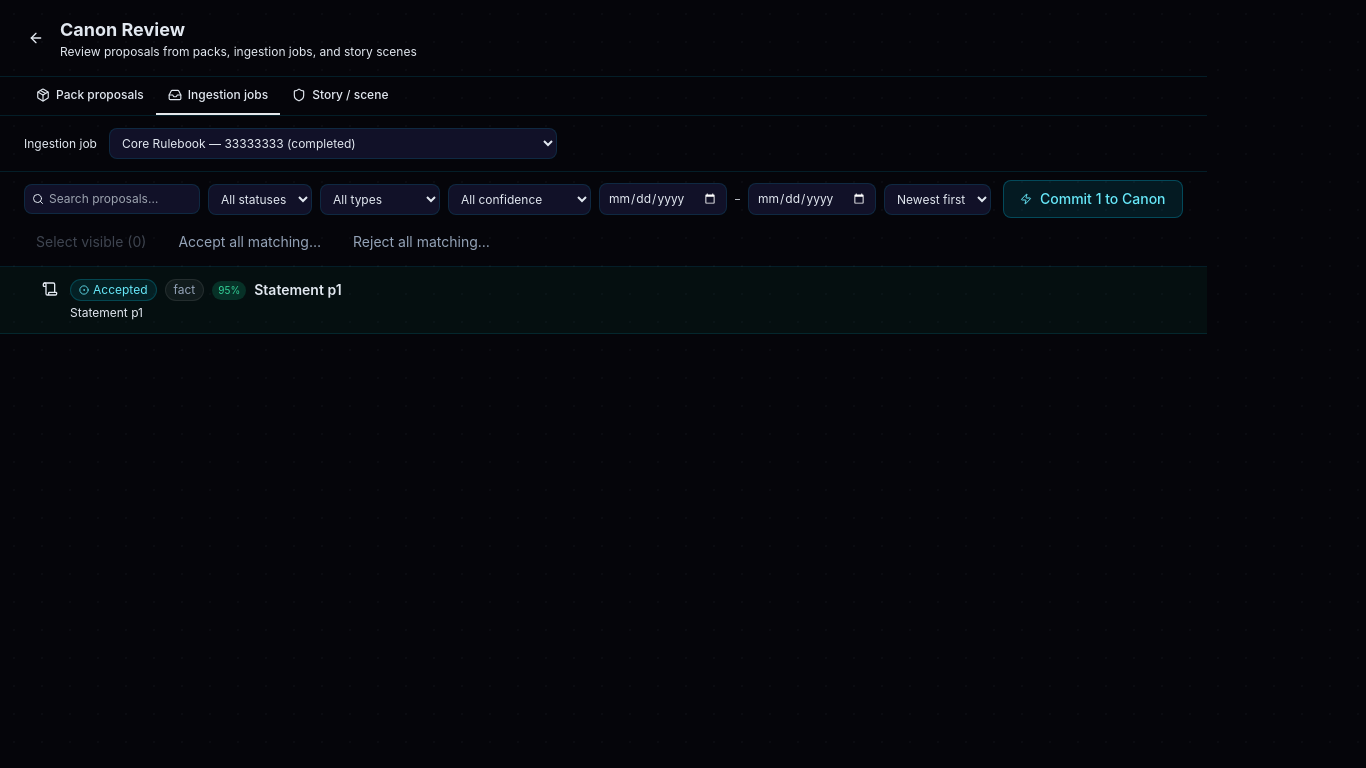
it: /forge/review — ingestion jobs scope (F1-4a, I-4) › commits accepted proposals via canonApi.commitByIngest
Click the button "Commit 1 to Canon" at coordinates (1093, 199), box [1003,180,1182,218]
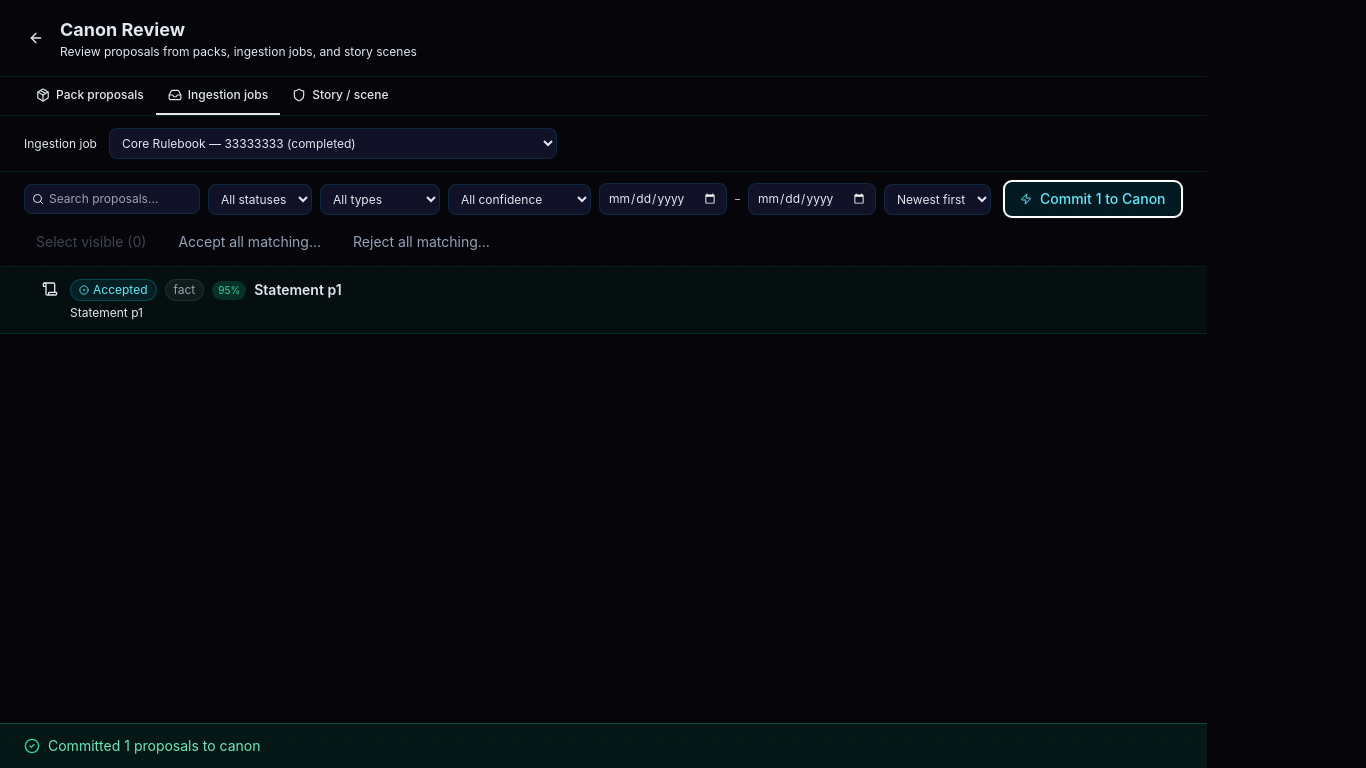
Check: the text "Committed 1 proposals to canon" is shown, box [48,736,260,756]
